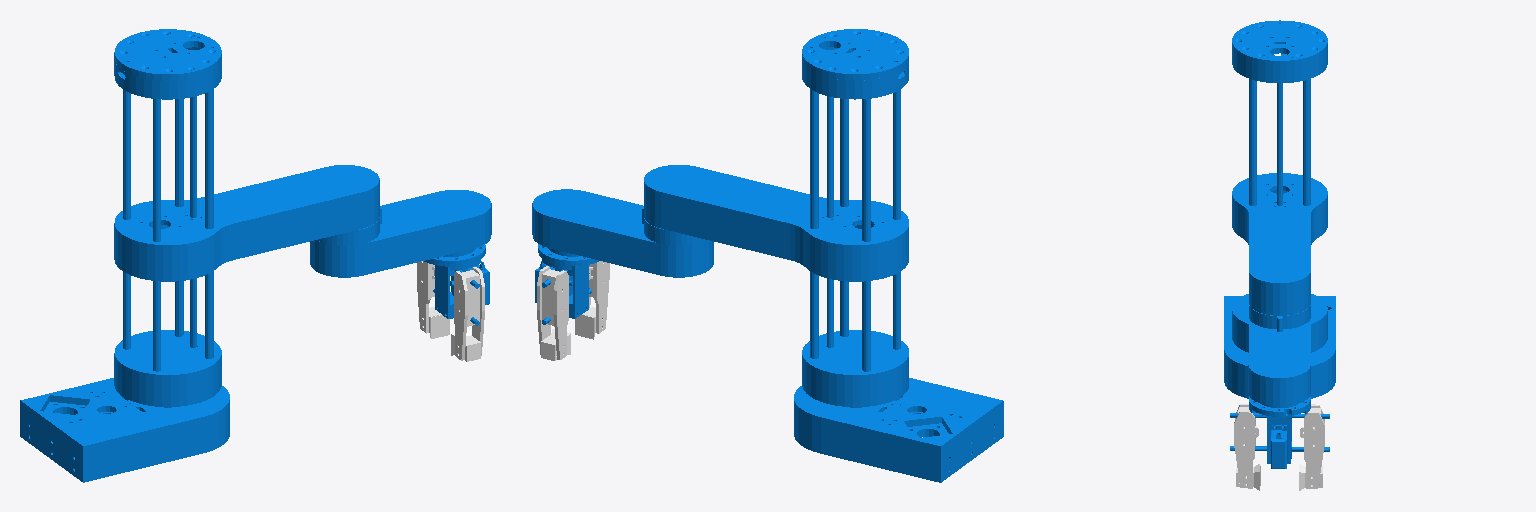
The robot description file, URDF, robot "robot_urdf":
<?xml version="1.0" encoding="utf-8" ?>
<!-- This URDF was automatically created by SolidWorks to URDF Exporter! Originally created by [author] ([email redacted]) 
     Commit Version: 1.5.1-0-g916b5db  Build Version: 1.5.7152.31018
     For more information, please see http://wiki.ros.org/sw_urdf_exporter -->
<robot name="robot_urdf">
    <link name="world" />
    <joint name="base_joint" type="fixed">
        <parent link="world" />
        <child link="base_link" />
        <origin rpy="0 0 0" xyz="0.0 0.0 0.17" />
    </joint>
    <link name="base_link">
        <inertial>
            <origin xyz="-0.0484 0.00025024 0.014375" rpy="0 0 0" />
            <mass value="0.50177" />
            <inertia ixx="0.0011606" ixy="5.7554E-06" ixz="-1.3272E-05" iyy="0.0023142" iyz="5.8192E-06" izz="0.0033168" />
        </inertial>
        <visual>
            <origin xyz="0 0 0" rpy="0 0 0" />
            <geometry>
                <mesh filename="package://robot_urdf/meshes/base_link.STL" />
            </geometry>
            <material name="">
                <color rgba="0.058824 0.60392 1 1" />
            </material>
        </visual>
        <collision>
            <origin xyz="0 0 0" rpy="0 0 0" />
            <geometry>
                <mesh filename="package://robot_urdf/meshes/base_link.STL" />
            </geometry>
        </collision>
    </link>
    <link name="link_1">
        <inertial>
            <origin xyz="0.00063415 -0.12069 3.6283E-05" rpy="0 0 0" />
            <mass value="0.52766" />
            <inertia ixx="0.002287" ixy="7.995E-07" ixz="2.2526E-07" iyy="0.00072875" iyz="-1.8807E-07" izz="0.0022712" />
        </inertial>
        <visual>
            <origin xyz="0 0 0" rpy="0 0 0" />
            <geometry>
                <mesh filename="package://robot_urdf/meshes/link_1.STL" />
            </geometry>
            <material name="">
                <color rgba="0.058824 0.60392 1 1" />
            </material>
        </visual>
        <collision>
            <origin xyz="0 0 0" rpy="0 0 0" />
            <geometry>
                <mesh filename="package://robot_urdf/meshes/link_1.STL" />
            </geometry>
        </collision>
    </link>
    <joint name="joint_1" type="revolute">
        <origin xyz="0 0 0.0819" rpy="-1.5708 0 0" />
        <parent link="base_link" />
        <child link="link_1" />
        <axis xyz="0 -1 0" />
        <limit lower="-3.142" upper="2.618" effort="300" velocity="3" />
    </joint>
    <link name="link_2">
        <inertial>
            <origin xyz="-4.9279E-05 0.02272 0.094652" rpy="0 0 0" />
            <mass value="0.42498" />
            <inertia ixx="0.0011916" ixy="-2.011E-07" ixz="-1.188E-06" iyy="0.0015091" iyz="-5.8264E-06" izz="0.00043779" />
        </inertial>
        <visual>
            <origin xyz="0 0 0" rpy="0 0 0" />
            <geometry>
                <mesh filename="package://robot_urdf/meshes/link_2.STL" />
            </geometry>
            <material name="">
                <color rgba="0.058824 0.60392 1 1" />
            </material>
        </visual>
        <collision>
            <origin xyz="0 0 0" rpy="0 0 0" />
            <geometry>
                <mesh filename="package://robot_urdf/meshes/link_2.STL" />
            </geometry>
        </collision>
    </link>
    <joint name="joint_2" type="prismatic">
        <origin xyz="0 -0.16 0" rpy="0 1.5708 0" />
        <parent link="link_1" />
        <child link="link_2" />
        <axis xyz="0 -1 0" />
        <limit lower="0" upper="0.125" effort="300" velocity="3" />
    </joint>
    <link name="link_3">
        <inertial>
            <origin xyz="-0.029971 -0.015191 0.051916" rpy="0 0 0" />
            <mass value="0.31995" />
            <inertia ixx="0.00084449" ixy="1.2174E-06" ixz="0.00037238" iyy="0.0012293" iyz="-2.1137E-06" izz="0.00041448" />
        </inertial>
        <visual>
            <origin xyz="0 0 0" rpy="0 0 0" />
            <geometry>
                <mesh filename="package://robot_urdf/meshes/link_3.STL" />
            </geometry>
            <material name="">
                <color rgba="0.058824 0.60392 1 1" />
            </material>
        </visual>
        <collision>
            <origin xyz="0 0 0" rpy="0 0 0" />
            <geometry>
                <mesh filename="package://robot_urdf/meshes/link_3.STL" />
            </geometry>
        </collision>
    </link>
    <joint name="joint_3" type="revolute">
        <origin xyz="0 0.064 0.228" rpy="0 0.52039 3.1416" />
        <parent link="link_2" />
        <child link="link_3" />
        <axis xyz="0 1 0" />
        <limit lower="-2.706" upper="2.706" effort="300" velocity="3" />
    </joint>
    <link name="link_4">
        <inertial>
            <origin xyz="0.0066206 -0.022609 0.0022512" rpy="0 0 0" />
            <mass value="0.11802" />
            <inertia ixx="5.2967E-05" ixy="4.9947E-08" ixz="3.6426E-06" iyy="5.0187E-05" iyz="2.8508E-08" izz="4.2792E-05" />
        </inertial>
        <visual>
            <origin xyz="0 0 0" rpy="0 0 0" />
            <geometry>
                <mesh filename="package://robot_urdf/meshes/link_4.STL" />
            </geometry>
            <material name="">
                <color rgba="0.058824 0.60392 1 1" />
            </material>
        </visual>
        <collision>
            <origin xyz="0 0 0" rpy="0 0 0" />
            <geometry>
                <mesh filename="package://robot_urdf/meshes/link_4.STL" />
            </geometry>
        </collision>
    </link>
    <joint name="joint_4" type="revolute">
        <origin xyz="-0.06825 -0.057 0.11821" rpy="0 -1.80462 0" />
        <parent link="link_3" />
        <child link="link_4" />
        <axis xyz="0 1 0" />
        <limit lower="-3.317" upper="1.693" effort="300" velocity="3" />
    </joint>
    <link name="link_5">
        <inertial>
            <origin xyz="-0.011077 0.013 0.046643" rpy="0 0 0" />
            <mass value="0.04619" />
            <inertia ixx="2.0516E-05" ixy="-3.3879E-21" ixz="-1.5256E-07" iyy="2.1859E-05" iyz="-7.6421E-21" izz="3.0443E-06" />
        </inertial>
        <visual>
            <origin xyz="0 0 0" rpy="0 0 0" />
            <geometry>
                <mesh filename="package://robot_urdf/meshes/link_5.STL" />
            </geometry>
            <material name="">
                <color rgba="1 1 1 1" />
            </material>
        </visual>
        <collision>
            <origin xyz="0 0 0" rpy="0 0 0" />
            <geometry>
                <mesh filename="package://robot_urdf/meshes/link_5.STL" />
            </geometry>
        </collision>
    </link>
    <joint name="joint_5" type="prismatic">
        <origin xyz="0.021804 -0.0145 -0.025035" rpy="-1.5708 -1.2566 -3.1416" />
        <parent link="link_4" />
        <child link="link_5" />
        <axis xyz="1 0 0" />
        <limit lower="0" upper="0.013" effort="300" velocity="3" />
    </joint>
    <link name="link_6">
        <inertial>
            <origin xyz="0.011077 -0.009 0.046643" rpy="0 0 0" />
            <mass value="0.04619" />
            <inertia ixx="2.0516E-05" ixy="-3.1767E-21" ixz="1.5256E-07" iyy="2.1859E-05" iyz="-1.153E-20" izz="3.0443E-06" />
        </inertial>
        <visual>
            <origin xyz="0 0 0" rpy="0 0 0" />
            <geometry>
                <mesh filename="package://robot_urdf/meshes/link_6.STL" />
            </geometry>
            <material name="">
                <color rgba="1 1 1 1" />
            </material>
        </visual>
        <collision>
            <origin xyz="0 0 0" rpy="0 0 0" />
            <geometry>
                <mesh filename="package://robot_urdf/meshes/link_6.STL" />
            </geometry>
        </collision>
    </link>
    <joint name="joint_6" type="prismatic">
        <origin xyz="-0.017999 -0.0145 0.026272" rpy="-1.5708 -1.2566 -3.1416" />
        <parent link="link_4" />
        <child link="link_6" />
        <axis xyz="-1 0 0" />
        <limit lower="0" upper="0.013" effort="300" velocity="3" />
    </joint>
    <transmission name="link_1_trans">
        <type>transmission_interface/SimpleTransmission</type>
        <joint name="joint_1">
            <hardwareInterface>hardware_interface/PositionJointInterface</hardwareInterface>
        </joint>
        <actuator name="link_1_motor">
            <hardwareInterface>hardware_interface/PositionJointInterface</hardwareInterface>
            <mechanicalReduction>1</mechanicalReduction>
        </actuator>
    </transmission>
    <transmission name="link_2_trans">
        <type>transmission_interface/SimpleTransmission</type>
        <joint name="joint_2">
            <hardwareInterface>hardware_interface/PositionJointInterface</hardwareInterface>
        </joint>
        <actuator name="link_2_motor">
            <hardwareInterface>hardware_interface/PositionJointInterface</hardwareInterface>
            <mechanicalReduction>1</mechanicalReduction>
        </actuator>
    </transmission>
    <transmission name="link_3_trans">
        <type>transmission_interface/SimpleTransmission</type>
        <joint name="joint_3">
            <hardwareInterface>hardware_interface/PositionJointInterface</hardwareInterface>
        </joint>
        <actuator name="link_3_motor">
            <hardwareInterface>hardware_interface/PositionJointInterface</hardwareInterface>
            <mechanicalReduction>1</mechanicalReduction>
        </actuator>
    </transmission>
    <transmission name="link_4_trans">
        <type>transmission_interface/SimpleTransmission</type>
        <joint name="joint_4">
            <hardwareInterface>hardware_interface/PositionJointInterface</hardwareInterface>
        </joint>
        <actuator name="link_4_motor">
            <hardwareInterface>hardware_interface/PositionJointInterface</hardwareInterface>
            <mechanicalReduction>1</mechanicalReduction>
        </actuator>
    </transmission>
    <transmission name="link_5_trans">
        <type>transmission_interface/SimpleTransmission</type>
        <joint name="joint_5">
            <hardwareInterface>hardware_interface/PositionJointInterface</hardwareInterface>
        </joint>
        <actuator name="link_5_motor">
            <hardwareInterface>hardware_interface/PositionJointInterface</hardwareInterface>
            <mechanicalReduction>1</mechanicalReduction>
        </actuator>
    </transmission>
    <transmission name="link_6_trans">
        <type>transmission_interface/SimpleTransmission</type>
        <joint name="joint_6">
            <hardwareInterface>hardware_interface/PositionJointInterface</hardwareInterface>
        </joint>
        <actuator name="link_6_motor">
            <hardwareInterface>hardware_interface/PositionJointInterface</hardwareInterface>
            <mechanicalReduction>1</mechanicalReduction>
        </actuator>
    </transmission>
    <gazebo>
        <plugin name="control" filename="libgazebo_ros_control.so">
            <robotNamespace>/</robotNamespace>
        </plugin>
        <plugin name="gazebo_ros_control" filename="libgazebo_ros_control.so">
            <robotNamespace>/</robotNamespace>
        </plugin>
    </gazebo>
    <gazebo reference="link_1">
        <selfCollide>true</selfCollide>
        <turnGravityOff>true</turnGravityOff>
    </gazebo>
    <gazebo reference="link_2">
        <selfCollide>true</selfCollide>
        <turnGravityOff>true</turnGravityOff>
    </gazebo>
    <gazebo reference="link_3">
        <selfCollide>true</selfCollide>
        <turnGravityOff>true</turnGravityOff>
    </gazebo>
    <gazebo reference="link_4">
        <selfCollide>true</selfCollide>
        <turnGravityOff>true</turnGravityOff>
    </gazebo>
    <gazebo reference="link_5">
        <selfCollide>true</selfCollide>
        <turnGravityOff>true</turnGravityOff>
    </gazebo>
    <gazebo reference="link_6">
        <selfCollide>true</selfCollide>
        <turnGravityOff>true</turnGravityOff>
    </gazebo>
</robot>

--- Render facts (derived) ---
Views: 3 orthographic renders of the robot side by side, from view 1: azimuth 30°, elevation 25°; view 2: azimuth 150°, elevation 25°; view 3: azimuth 270°, elevation 25°.
Model robot_urdf with 8 links and 7 joints (3 revolute, 3 prismatic, 1 fixed), rooted at world, posed all joints at 0.
Visible links, largest first — view 1: link_1, link_2, base_link, link_3, link_6, link_4, link_5; view 2: link_1, link_2, base_link, link_3, link_5, link_4, link_6; view 3: link_2, link_1, link_3, base_link, link_4, link_6, link_5.
Boxes of the visible links, x1,y1,x2,y2 form: link_1: (114,29,221,407); link_2: (114,165,379,281); base_link: (20,378,229,482); link_3: (310,190,491,277); link_6: (451,267,484,361); link_4: (424,245,489,325); link_5: (417,261,449,338); link_1: (802,29,908,407); link_2: (644,165,908,281); base_link: (794,378,1003,482); link_3: (532,189,713,277); link_5: (537,266,570,360); link_4: (535,244,598,324); link_6: (575,261,609,339); link_2: (1232,173,1327,315); link_1: (1232,20,1327,352); link_3: (1248,305,1310,405); base_link: (1224,296,1335,398); link_4: (1230,396,1329,468); link_6: (1234,404,1260,490); link_5: (1299,404,1324,490).
Size in the robot's own frame: 0.561 by 0.14 by 0.468 metres.
Meshes: 7 distinct files referenced, 7 mesh visuals loaded (7 binary STL).